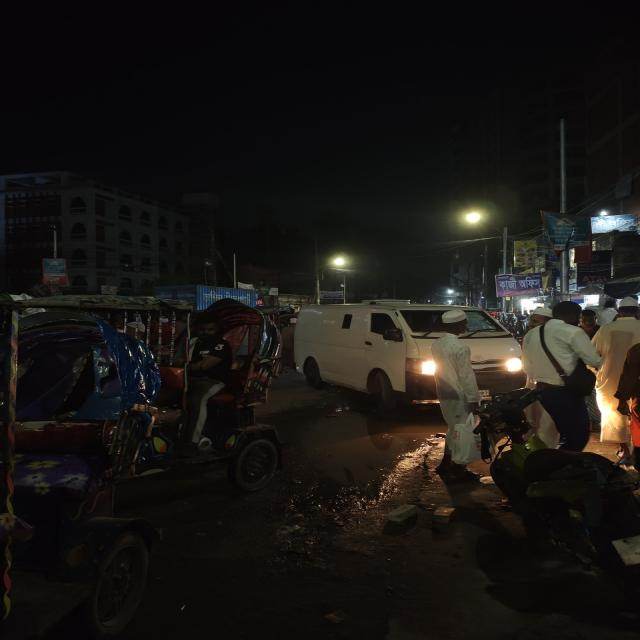car: (284, 300, 529, 412)
pedestrian: (428, 305, 491, 479), (530, 300, 602, 392)
rickshaw: (0, 296, 162, 570), (157, 295, 280, 490)
